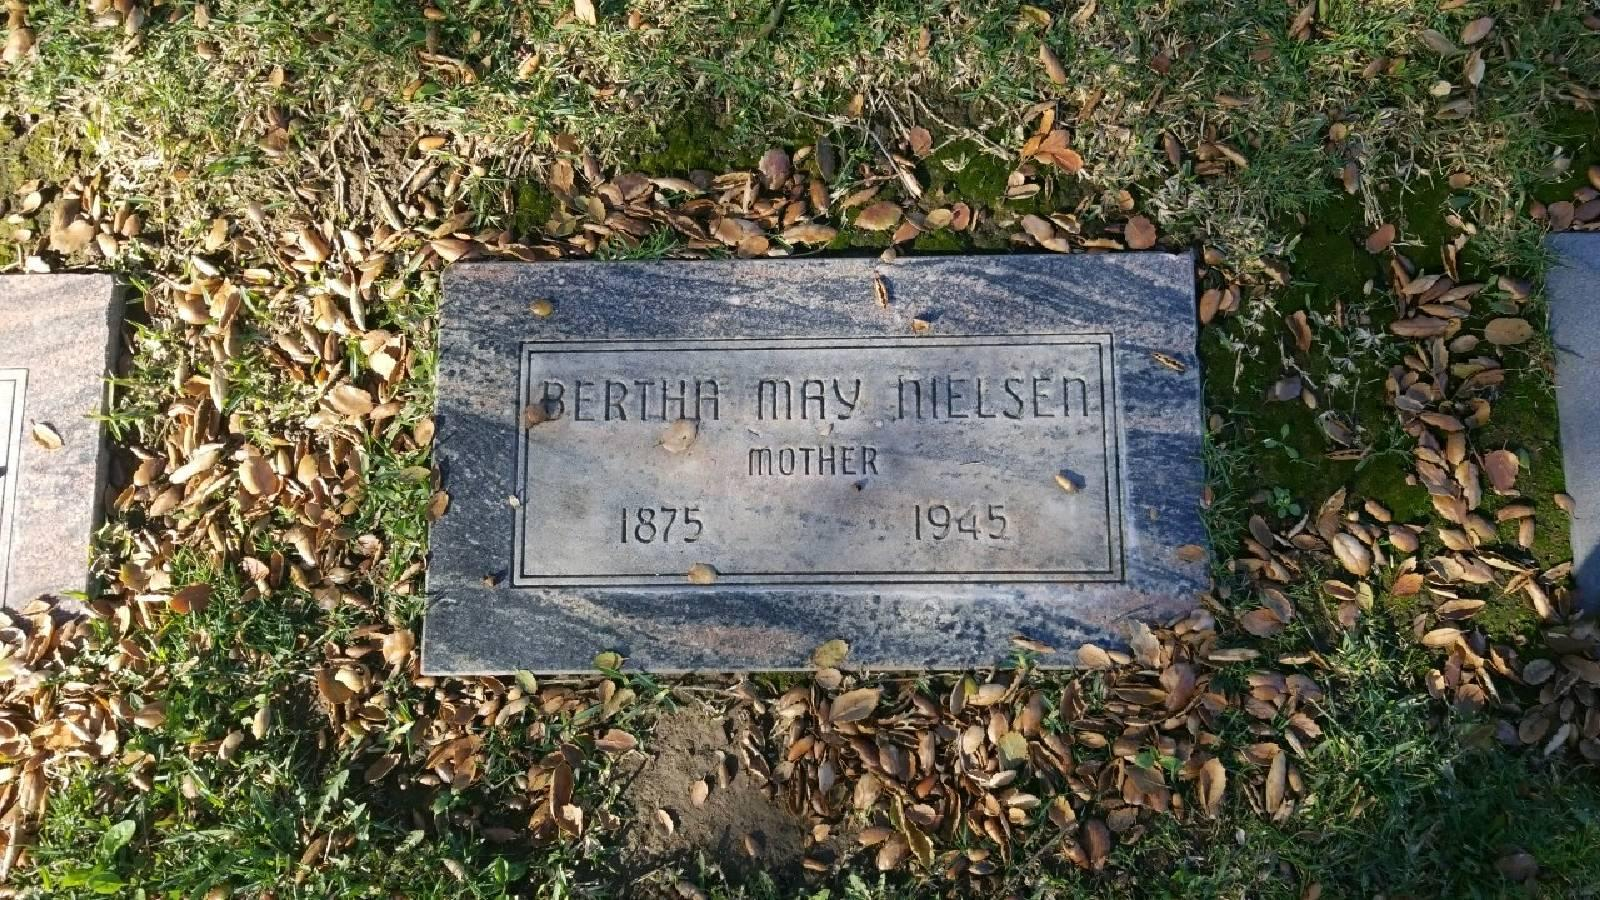flat: (421, 222, 1255, 704)
